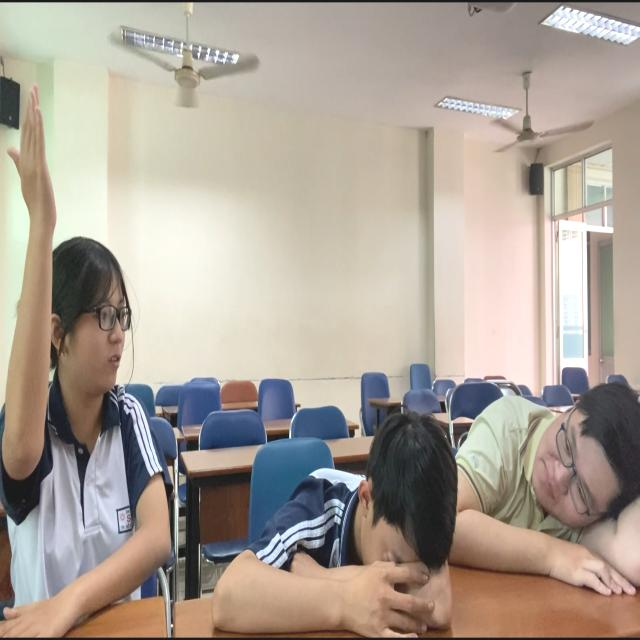raise_hand: (4, 72, 131, 640)
sleep: (212, 412, 463, 640), (462, 374, 640, 640)
